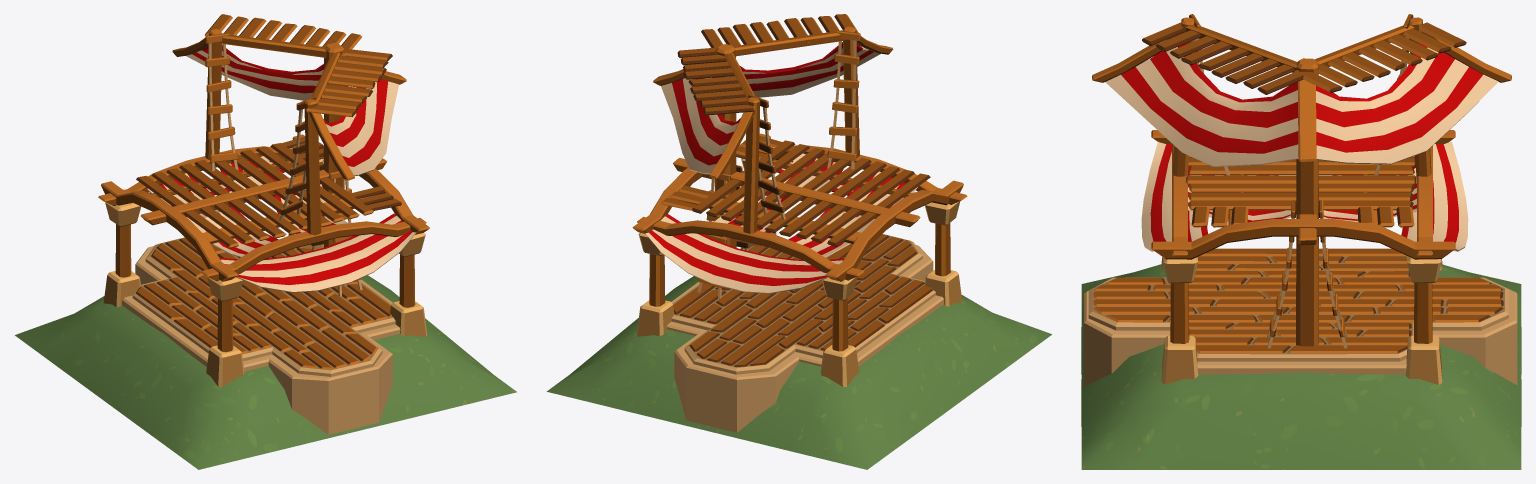
Rendered from lookout_tower_final_glb.glb.
3 renders of one model, left to right at view 1: azimuth 30°, elevation 25°; view 2: azimuth 150°, elevation 25°; view 3: azimuth 270°, elevation 25°, orthographic. The views are drawn at different scales.
Parts seen in each view (by area): view 1: tower_model; view 2: tower_model; view 3: tower_model.
Boxes of the visible parts, left/top/right/bottom form: tower_model: left=15, top=14, right=516, bottom=469; tower_model: left=547, top=14, right=1051, bottom=469; tower_model: left=1081, top=14, right=1521, bottom=469.
Size of what is drawn, in the model's own units: 16.01 by 14.31 by 16.01.
Materials: 2 (2 with a texture image).
